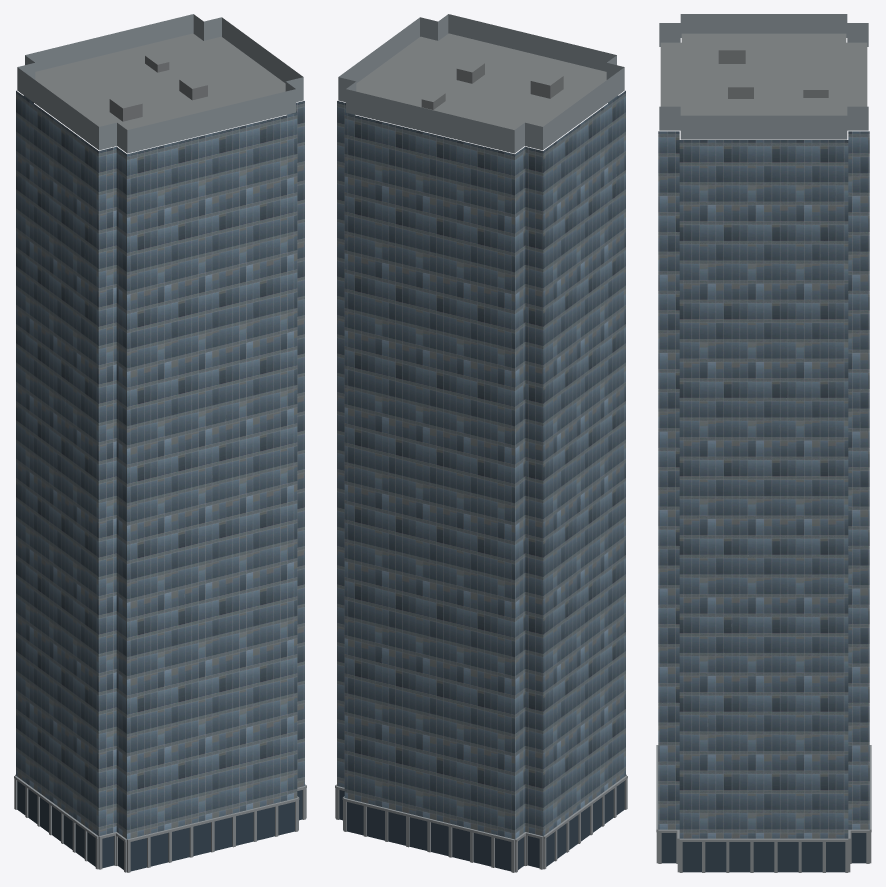
Rendered from amazon_doppler.glb.
3 renders of one model, left to right at view 1: azimuth 30°, elevation 25°; view 2: azimuth 150°, elevation 25°; view 3: azimuth 270°, elevation 25°, orthographic.
Parts seen in each view (by area): view 1: amazon_doppler; view 2: amazon_doppler; view 3: amazon_doppler.
Part boxes in pixels (x1,y1,x2,y2): amazon_doppler: (14,14,306,872); amazon_doppler: (335,14,627,872); amazon_doppler: (656,14,871,872).
Size of the model in its own units: 46.8 by 158 by 40.8.
2 materials, 2 textured.
